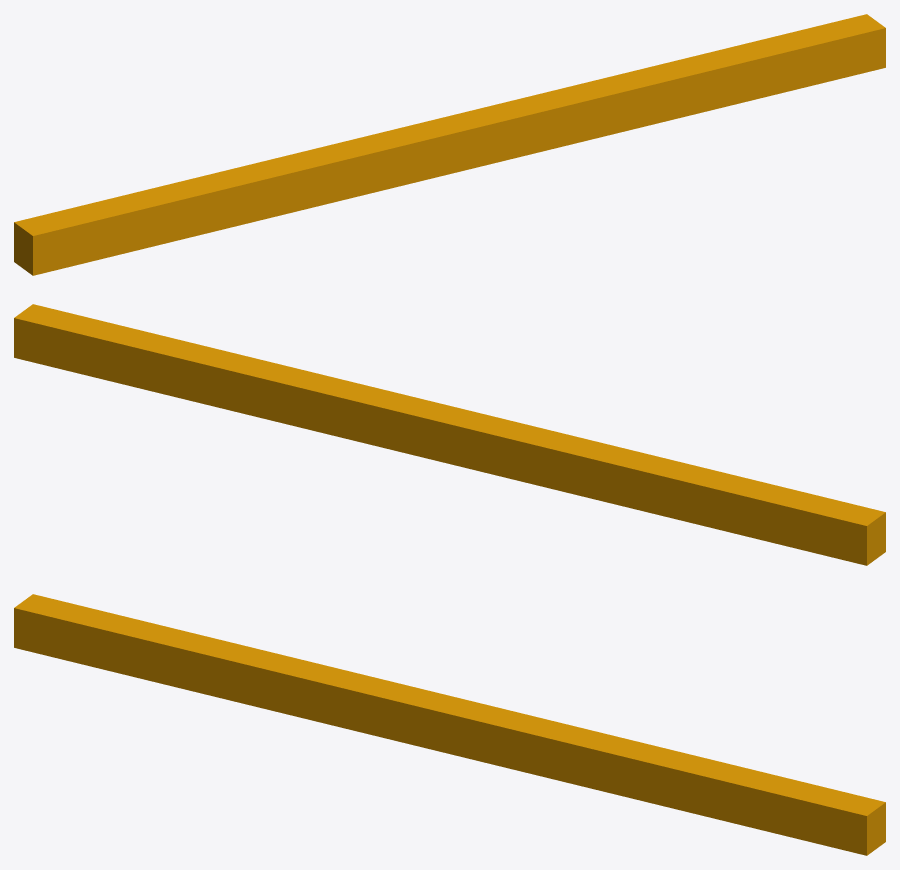
Rendered from L_Rope_A_01_C.fbx.
3 views of the same model, one above another, from view 1: azimuth 30°, elevation 25°; view 2: azimuth 150°, elevation 25°; view 3: azimuth 330°, elevation 25° (orthographic).
Visible parts, largest first — view 1: L_Rope_A_01_C; view 2: L_Rope_A_01_C; view 3: L_Rope_A_01_C.
Boxes of the visible parts, left/top/right/bottom form: L_Rope_A_01_C: left=14, top=14, right=885, bottom=275; L_Rope_A_01_C: left=14, top=304, right=885, bottom=565; L_Rope_A_01_C: left=14, top=594, right=885, bottom=855.
Bounding box in the file's own units: 187 × 8.33 × 7.22.
